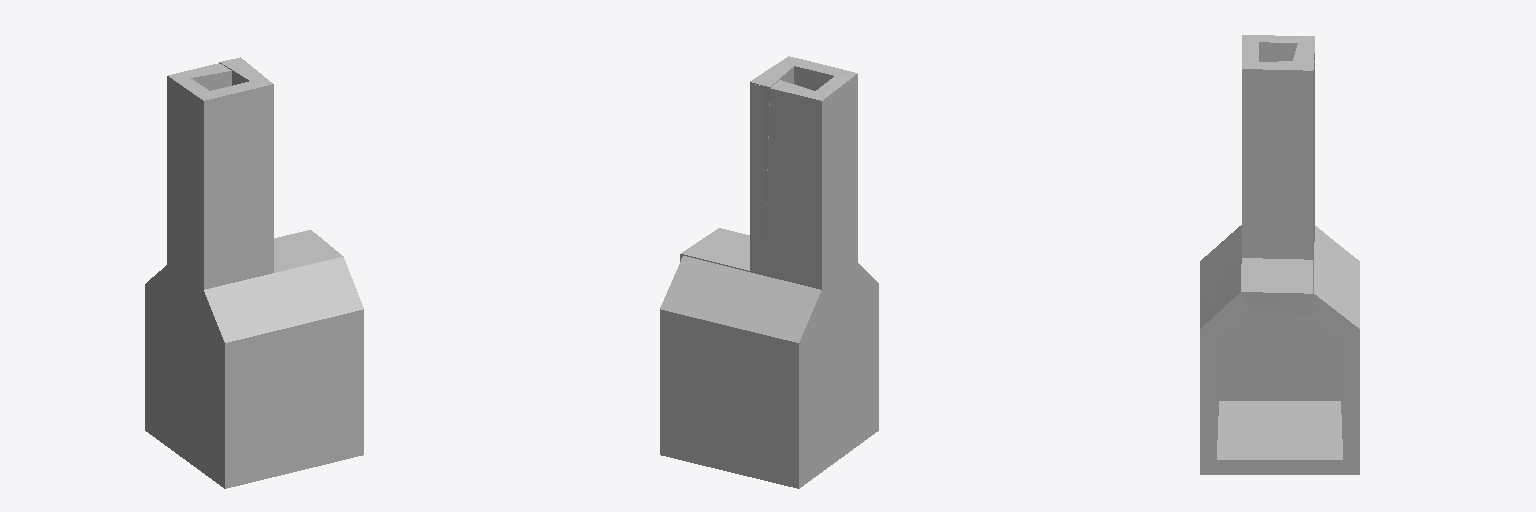
The model's file is chimney.obj.
The picture shows the model from 3 angles: view 1: azimuth 30°, elevation 25°; view 2: azimuth 150°, elevation 25°; view 3: azimuth 270°, elevation 25°; orthographic projection.
Parts seen in each view (by area): view 1: Cube_Cube.001; view 2: Cube_Cube.001; view 3: Cube_Cube.001.
Part boxes in pixels (x1,y1,x2,y2): Cube_Cube.001: (145,57,363,488); Cube_Cube.001: (660,56,878,488); Cube_Cube.001: (1200,35,1359,474).
Bounding box in the file's own units: 2.05 × 5.11 × 2.